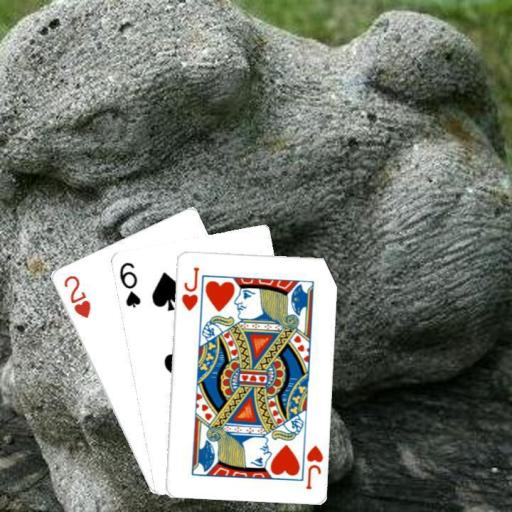card-corner: (60, 272, 92, 320), (116, 259, 141, 309), (178, 264, 200, 312), (302, 442, 324, 490)
